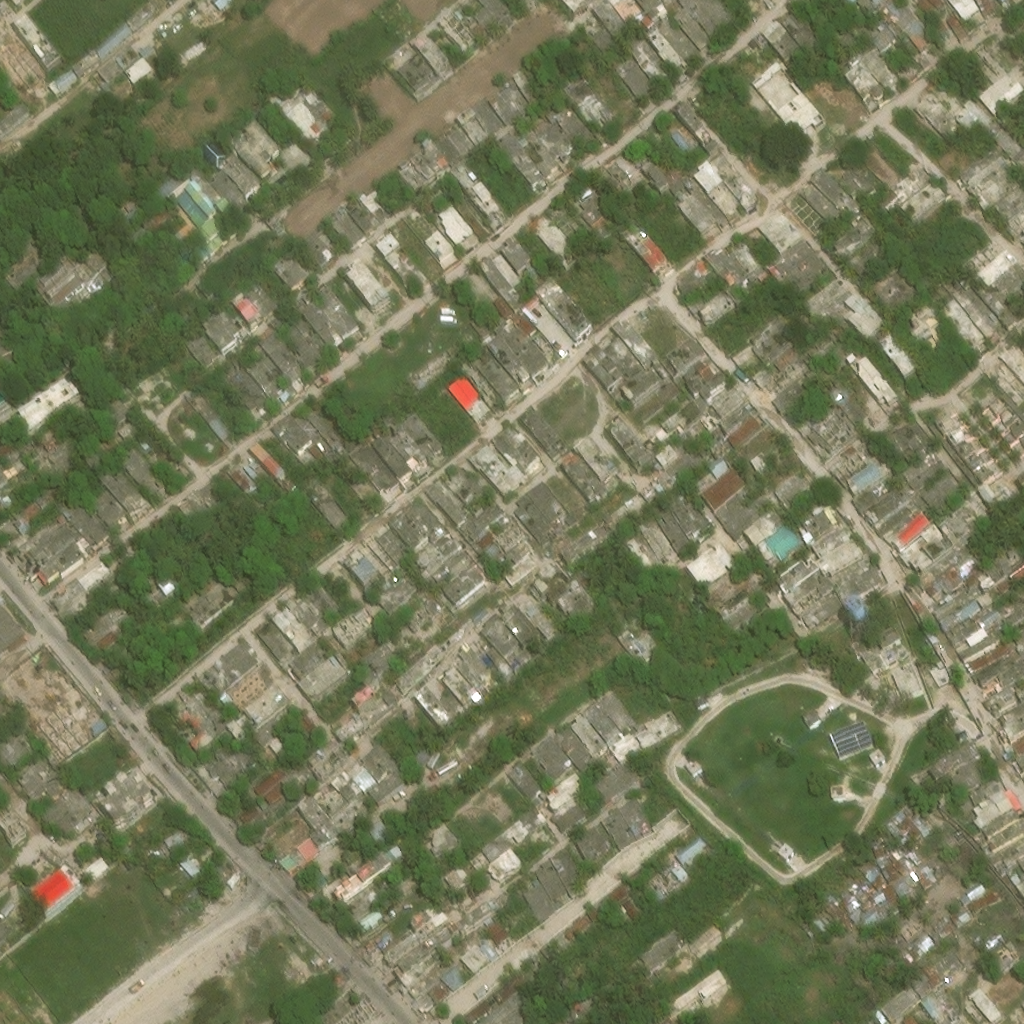minor_damage: (681, 248, 768, 333), (586, 331, 676, 412), (875, 949, 970, 1023), (257, 406, 344, 486), (467, 426, 545, 502), (779, 561, 854, 638), (260, 308, 333, 387), (661, 0, 753, 60), (524, 286, 595, 360), (907, 528, 988, 591), (920, 535, 998, 599), (205, 362, 273, 434), (49, 257, 123, 323), (489, 320, 554, 394), (924, 498, 992, 568), (797, 169, 866, 235), (47, 560, 118, 623), (283, 84, 349, 151), (50, 482, 114, 550), (276, 491, 340, 558), (645, 5, 709, 71), (302, 288, 363, 354), (816, 376, 876, 441), (173, 691, 233, 755), (299, 477, 359, 540), (369, 226, 426, 291), (726, 498, 792, 554), (330, 852, 396, 908), (645, 402, 713, 455), (13, 375, 79, 429), (872, 0, 932, 58), (771, 237, 829, 295), (919, 742, 989, 790), (449, 163, 504, 224), (17, 748, 72, 809), (867, 493, 926, 549), (559, 71, 614, 131), (348, 440, 402, 501), (696, 161, 748, 224), (359, 529, 417, 584), (507, 51, 566, 105), (978, 263, 1023, 333), (609, 48, 662, 107), (203, 642, 259, 697), (424, 480, 478, 536), (870, 263, 926, 316), (231, 121, 281, 180), (473, 349, 525, 405), (627, 35, 678, 92), (182, 584, 238, 635), (82, 33, 139, 83), (513, 122, 563, 179), (757, 533, 812, 584), (954, 285, 1004, 341), (960, 627, 1023, 671), (908, 1, 972, 44), (644, 25, 693, 81), (497, 135, 546, 191), (530, 109, 579, 165), (939, 297, 988, 353), (833, 561, 891, 608), (104, 778, 156, 830), (40, 787, 94, 837), (750, 316, 799, 371), (235, 692, 291, 740), (455, 94, 505, 147), (25, 524, 80, 572), (578, 0, 629, 51), (952, 602, 1003, 653), (882, 166, 933, 217), (526, 737, 577, 788), (574, 441, 624, 493), (560, 454, 609, 507), (482, 73, 532, 124), (519, 412, 570, 462), (724, 585, 774, 636), (97, 470, 149, 519), (807, 419, 859, 468), (417, 540, 470, 588), (779, 4, 829, 54), (515, 495, 558, 553), (120, 442, 165, 496), (452, 0, 511, 41), (593, 761, 646, 806), (974, 653, 1023, 701), (433, 203, 480, 253), (246, 440, 293, 490), (667, 497, 717, 544), (830, 221, 881, 267), (527, 482, 572, 534), (247, 353, 293, 403), (402, 413, 448, 463), (683, 362, 733, 408), (386, 426, 431, 477), (880, 418, 934, 460), (811, 278, 857, 327), (299, 790, 351, 833), (936, 584, 991, 624), (86, 487, 133, 533), (304, 584, 348, 632), (374, 575, 422, 619), (583, 704, 627, 752), (504, 609, 546, 659), (343, 553, 388, 599), (210, 170, 254, 217), (221, 290, 265, 337), (448, 466, 492, 513), (562, 528, 609, 572), (970, 641, 1023, 680), (80, 601, 129, 643), (551, 100, 591, 151), (287, 595, 333, 639), (319, 575, 365, 619), (842, 241, 889, 284), (963, 552, 1016, 590), (902, 450, 947, 494), (639, 439, 694, 475), (357, 737, 401, 782), (255, 619, 298, 665), (880, 336, 922, 383), (553, 728, 594, 776), (389, 516, 434, 559), (524, 208, 567, 253), (393, 154, 439, 196), (703, 472, 749, 514), (532, 570, 574, 616), (374, 439, 414, 487), (349, 691, 397, 731), (38, 545, 87, 584), (0, 727, 39, 776), (201, 309, 244, 353), (221, 153, 263, 198), (274, 609, 316, 654), (288, 645, 333, 687), (598, 691, 640, 736), (978, 806, 1023, 848), (956, 143, 1002, 184), (597, 737, 644, 777), (196, 397, 235, 445), (359, 179, 402, 222), (408, 501, 450, 545), (239, 277, 281, 320), (435, 124, 477, 167), (860, 48, 902, 91), (372, 716, 414, 759), (609, 423, 650, 467), (16, 515, 61, 555), (475, 989, 527, 1023), (506, 760, 548, 802), (2, 248, 45, 289), (846, 66, 887, 109), (639, 930, 681, 971), (210, 746, 251, 788), (484, 624, 524, 667), (378, 927, 421, 967), (814, 529, 858, 568), (834, 160, 880, 197), (412, 34, 452, 76), (579, 826, 616, 871), (414, 689, 454, 730), (328, 205, 367, 247), (835, 452, 879, 489), (319, 994, 375, 1023), (437, 11, 476, 52), (396, 49, 434, 91), (479, 260, 517, 302), (468, 507, 506, 549), (562, 587, 600, 629), (445, 579, 487, 617), (598, 160, 635, 203), (462, 650, 499, 693), (600, 811, 636, 855), (39, 321, 78, 361), (344, 194, 383, 234), (974, 790, 1014, 829), (764, 23, 802, 64), (669, 345, 711, 382), (552, 852, 588, 895), (850, 469, 894, 504), (181, 486, 216, 530), (984, 682, 1023, 721), (635, 245, 674, 284), (272, 254, 310, 294), (681, 199, 719, 239), (487, 527, 528, 564), (803, 511, 844, 548), (619, 799, 655, 841), (445, 980, 480, 1023), (258, 268, 296, 307), (299, 232, 337, 271), (379, 168, 417, 207), (185, 327, 222, 367), (389, 662, 431, 697), (773, 381, 812, 418), (426, 24, 462, 64), (980, 172, 1021, 207), (619, 632, 660, 667), (660, 510, 693, 553), (93, 383, 130, 421), (2, 464, 41, 500), (680, 110, 715, 150), (900, 524, 941, 558), (47, 434, 80, 476), (503, 237, 536, 279), (913, 311, 945, 354), (945, 0, 984, 35), (445, 671, 480, 710), (953, 99, 997, 130), (456, 904, 496, 938), (919, 90, 955, 127), (714, 391, 751, 427), (419, 139, 453, 178), (344, 755, 378, 794), (315, 220, 350, 257), (329, 769, 364, 806), (989, 122, 1023, 159), (197, 478, 230, 516), (252, 793, 290, 826), (891, 805, 925, 841), (551, 802, 588, 835), (510, 808, 547, 840), (932, 585, 970, 616), (0, 604, 24, 653), (369, 768, 405, 800), (970, 988, 1002, 1023), (580, 192, 609, 230), (0, 811, 29, 849), (831, 890, 864, 923), (229, 463, 261, 497), (556, 201, 585, 238), (717, 495, 751, 526), (642, 164, 672, 199), (474, 983, 509, 1013), (981, 393, 1013, 425), (251, 764, 284, 795), (673, 834, 707, 864), (415, 912, 450, 941), (995, 186, 1023, 222), (863, 881, 899, 909), (10, 368, 48, 394), (730, 0, 764, 29), (994, 591, 1023, 625), (0, 95, 28, 130), (845, 871, 877, 901), (43, 55, 76, 84), (960, 0, 993, 29), (147, 580, 180, 609), (930, 989, 960, 1020), (609, 0, 644, 26), (91, 308, 121, 338), (427, 824, 458, 853), (66, 39, 98, 67), (363, 812, 392, 842), (936, 409, 968, 436), (670, 123, 698, 153), (506, 542, 534, 572), (459, 669, 487, 699), (881, 815, 909, 845), (342, 849, 373, 876), (881, 627, 908, 658), (0, 454, 26, 486), (973, 459, 1005, 485), (955, 435, 987, 461), (854, 492, 883, 520), (991, 409, 1020, 437), (656, 860, 687, 886), (971, 777, 1003, 802), (907, 933, 935, 961), (440, 965, 469, 992), (993, 706, 1023, 732), (946, 423, 977, 448), (437, 694, 468, 719), (541, 933, 569, 960), (860, 648, 889, 674), (965, 448, 995, 472), (124, 0, 155, 23), (870, 26, 897, 52), (976, 0, 1005, 24), (354, 905, 383, 929), (650, 1002, 683, 1023), (1000, 420, 1023, 450), (557, 778, 587, 801), (484, 919, 510, 945), (442, 864, 467, 891), (564, 915, 591, 940), (811, 910, 838, 935), (469, 964, 497, 988), (998, 719, 1023, 745), (851, 0, 883, 20), (977, 884, 1002, 909), (863, 864, 888, 889), (81, 445, 106, 469), (94, 628, 119, 652), (294, 709, 318, 734), (774, 352, 800, 375), (445, 631, 471, 654), (1002, 211, 1023, 239), (492, 297, 516, 321), (751, 456, 775, 480), (643, 877, 667, 901), (585, 900, 610, 923), (929, 914, 952, 939), (912, 862, 938, 884), (972, 385, 998, 407), (642, 477, 663, 504), (799, 706, 823, 729), (162, 827, 186, 850), (386, 837, 409, 860), (877, 855, 899, 879), (890, 873, 914, 895), (978, 927, 1001, 949), (621, 897, 643, 920), (606, 882, 629, 904), (502, 970, 526, 991), (461, 946, 482, 970), (269, 164, 291, 186), (263, 779, 285, 801), (264, 831, 286, 853), (922, 1002, 945, 1023), (951, 903, 972, 926), (517, 317, 539, 338), (993, 0, 1020, 17), (31, 485, 52, 506), (14, 499, 36, 519), (28, 655, 47, 678), (562, 0, 591, 15), (829, 0, 860, 14), (498, 1009, 529, 1023), (0, 922, 16, 949), (0, 331, 17, 356), (480, 941, 500, 962), (777, 840, 797, 861), (942, 614, 963, 633), (1003, 737, 1023, 756), (229, 578, 249, 597), (685, 756, 704, 776), (472, 613, 492, 632), (478, 537, 500, 554), (0, 386, 13, 414), (628, 865, 647, 884), (1010, 855, 1023, 882), (766, 378, 784, 397), (239, 800, 258, 818), (573, 1004, 592, 1022), (1009, 753, 1023, 777), (868, 746, 886, 764), (967, 879, 987, 895), (382, 418, 400, 435), (206, 866, 223, 883), (798, 920, 815, 937), (410, 746, 429, 761), (830, 783, 846, 799), (1009, 442, 1023, 460), (871, 840, 885, 858), (873, 484, 889, 499), (593, 124, 608, 140), (1000, 956, 1015, 972), (802, 321, 818, 336), (229, 868, 243, 883), (637, 0, 660, 9), (368, 1013, 387, 1023), (1003, 940, 1017, 952), (0, 486, 7, 505), (1012, 150, 1023, 162), (0, 703, 10, 715)
no_damage: (144, 182, 225, 282), (34, 873, 81, 918), (920, 471, 964, 514), (723, 408, 764, 452), (523, 884, 560, 926), (534, 861, 570, 904), (91, 14, 130, 49), (142, 207, 176, 238), (694, 467, 725, 495), (120, 223, 148, 252)
unclassified: (540, 22, 597, 79), (158, 506, 194, 548), (28, 223, 69, 258)
